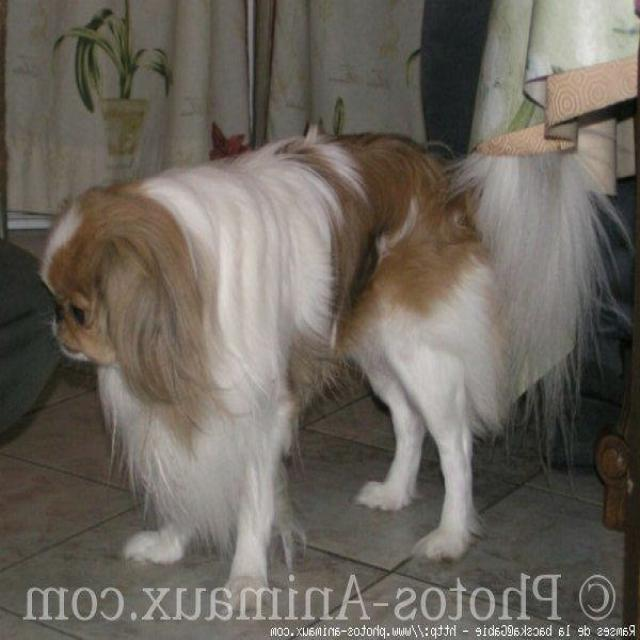husky: (36, 130, 622, 616)
